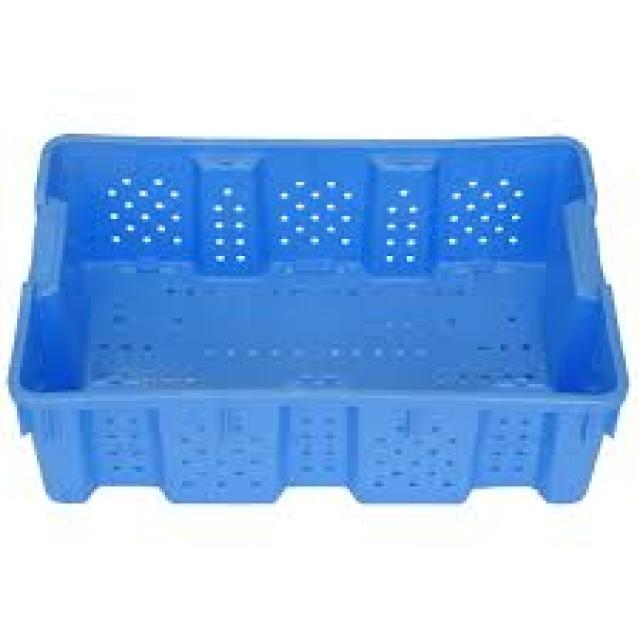basket: (10, 136, 633, 512)
